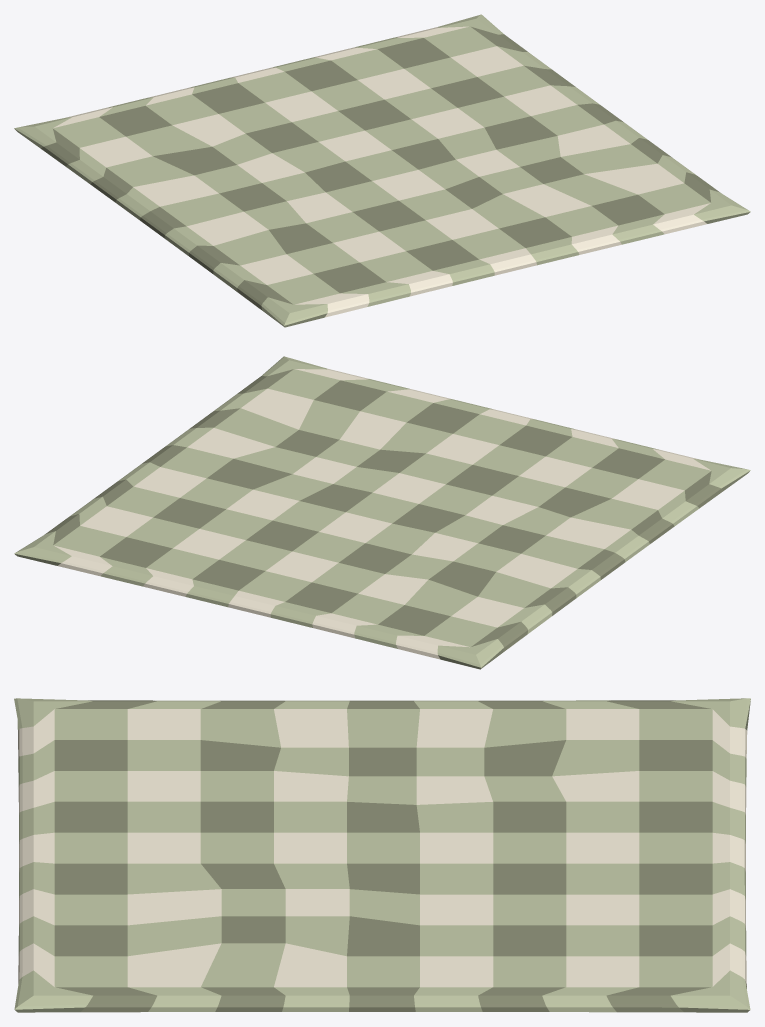
The model's file is blanket.glb.
3 renders of one model, top to bottom at view 1: azimuth 30°, elevation 25°; view 2: azimuth 150°, elevation 25°; view 3: azimuth 270°, elevation 25°, orthographic. The views are drawn at different scales.
Parts seen in each view (by area): view 1: blanket; view 2: blanket; view 3: blanket.
Boxes of the visible parts, bbox=[...] form: blanket: bbox=[14, 14, 750, 327]; blanket: bbox=[14, 356, 750, 669]; blanket: bbox=[14, 698, 750, 1012].
Bounding box in the file's own units: 4.6 × 0.0753 × 4.6.
